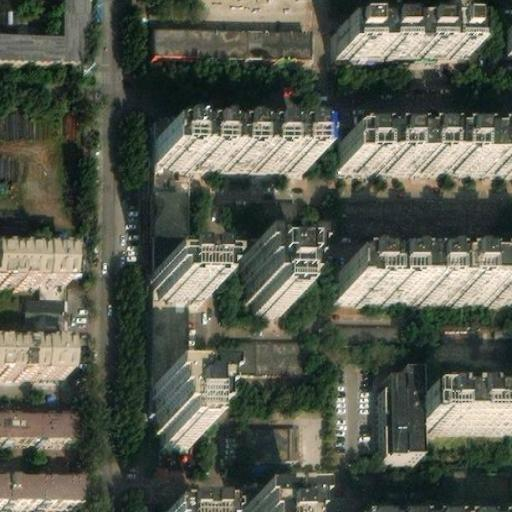building: (344, 267, 512, 298), (156, 129, 312, 161), (156, 22, 310, 53), (344, 136, 512, 164), (152, 279, 194, 377), (155, 159, 192, 264), (152, 376, 212, 436), (336, 26, 467, 53), (238, 253, 296, 313), (375, 375, 412, 464), (219, 335, 306, 370), (411, 399, 512, 428), (0, 339, 66, 374), (0, 402, 74, 430), (0, 482, 77, 508), (153, 264, 213, 290), (250, 418, 289, 457), (26, 279, 69, 304)
